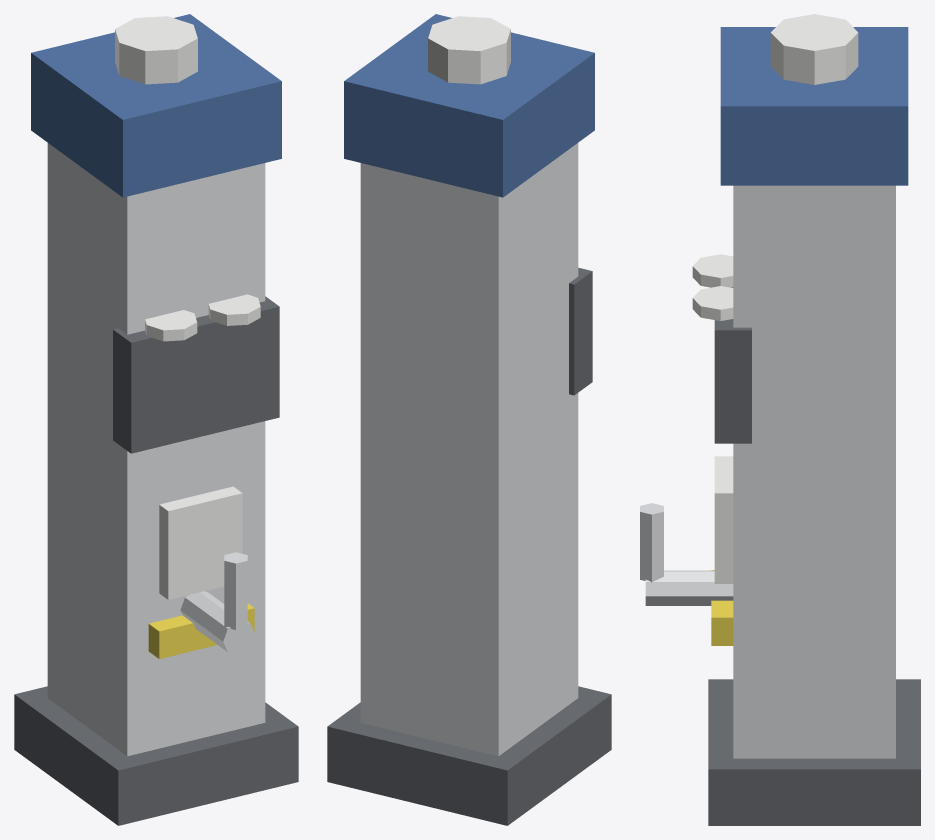
The model's file is PortPedestal.glb.
The picture shows the model from 3 angles, left to right: view 1: azimuth 30°, elevation 25°; view 2: azimuth 150°, elevation 25°; view 3: azimuth 270°, elevation 25°; orthographic projection. The views are drawn at different scales.
Visible parts, largest first — view 1: marina-and-yacht-club-service-pedestal; view 2: marina-and-yacht-club-service-pedestal; view 3: marina-and-yacht-club-service-pedestal.
Part boxes in pixels (x1=…): marina-and-yacht-club-service-pedestal: x1=14, y1=14, x2=298, y2=825; marina-and-yacht-club-service-pedestal: x1=327, y1=14, x2=611, y2=825; marina-and-yacht-club-service-pedestal: x1=640, y1=14, x2=920, y2=825.
Bounding box in the file's own units: 0.4543 × 1.76 × 0.6.
